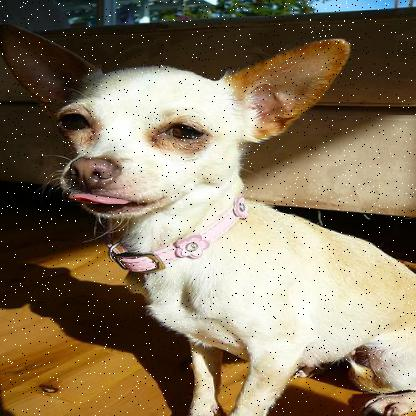dog: (8, 19, 415, 415)
